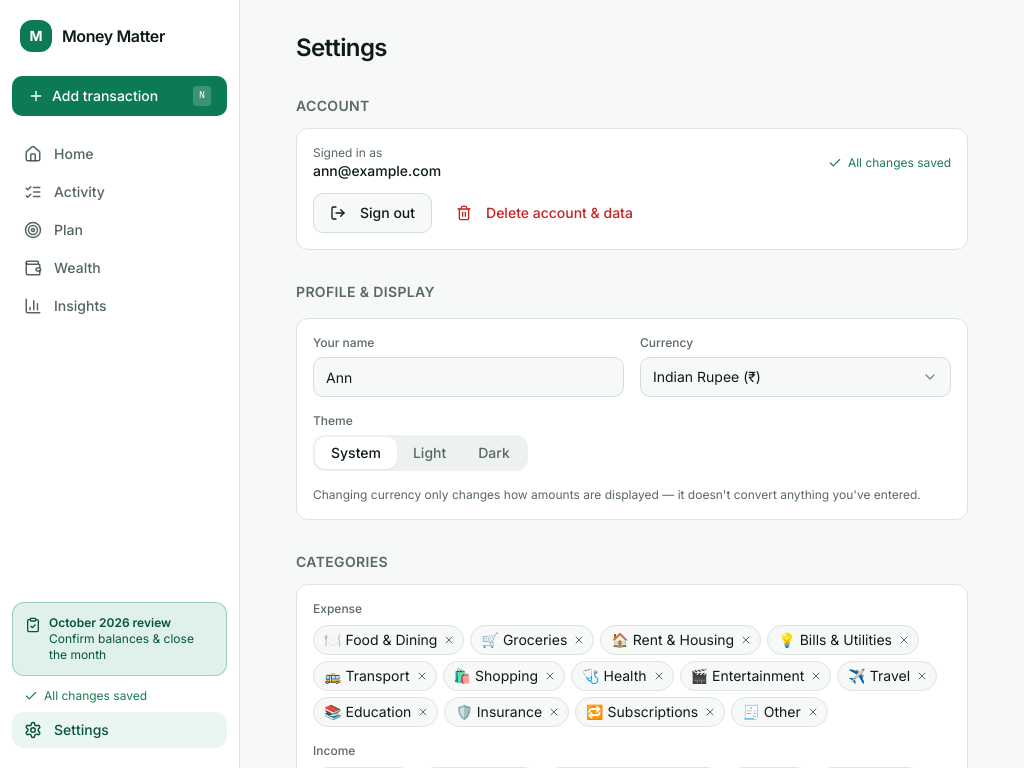
signing out › clears this device's cache and returns to the sign-in screen
Expected: the text "ann@example.com" is shown, [313,161,441,181]
Click the button "Sign out".
click(372, 213)  # box [313,193,432,233]
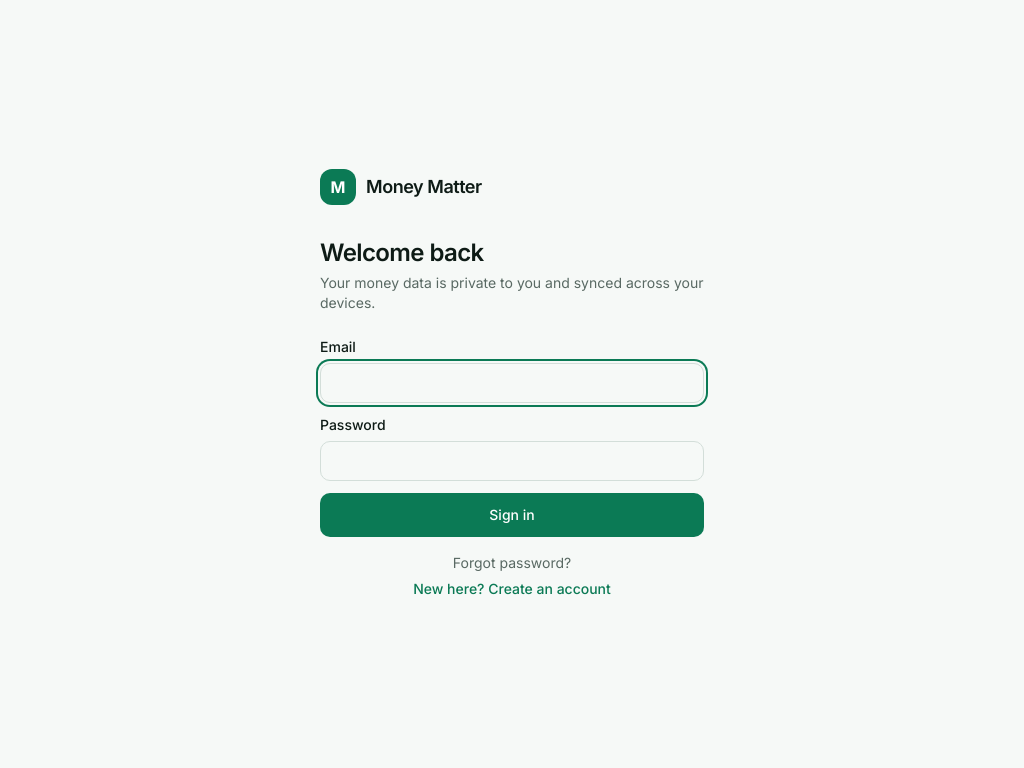
Expected: the heading "Welcome back" is shown, [320,238,484,267]
